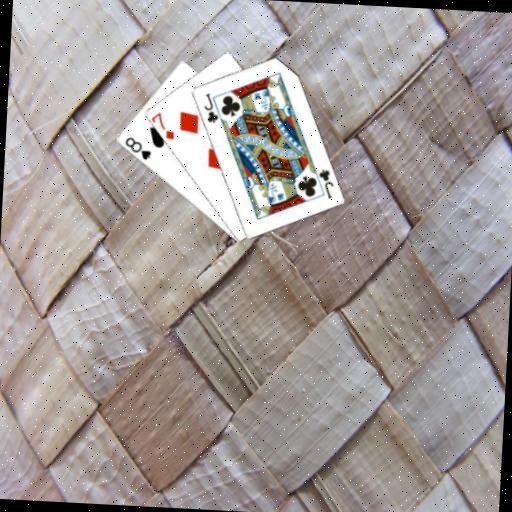7D: (148, 109, 177, 142)
8S: (121, 134, 154, 163)
JC: (199, 90, 221, 125), (314, 166, 336, 201)
